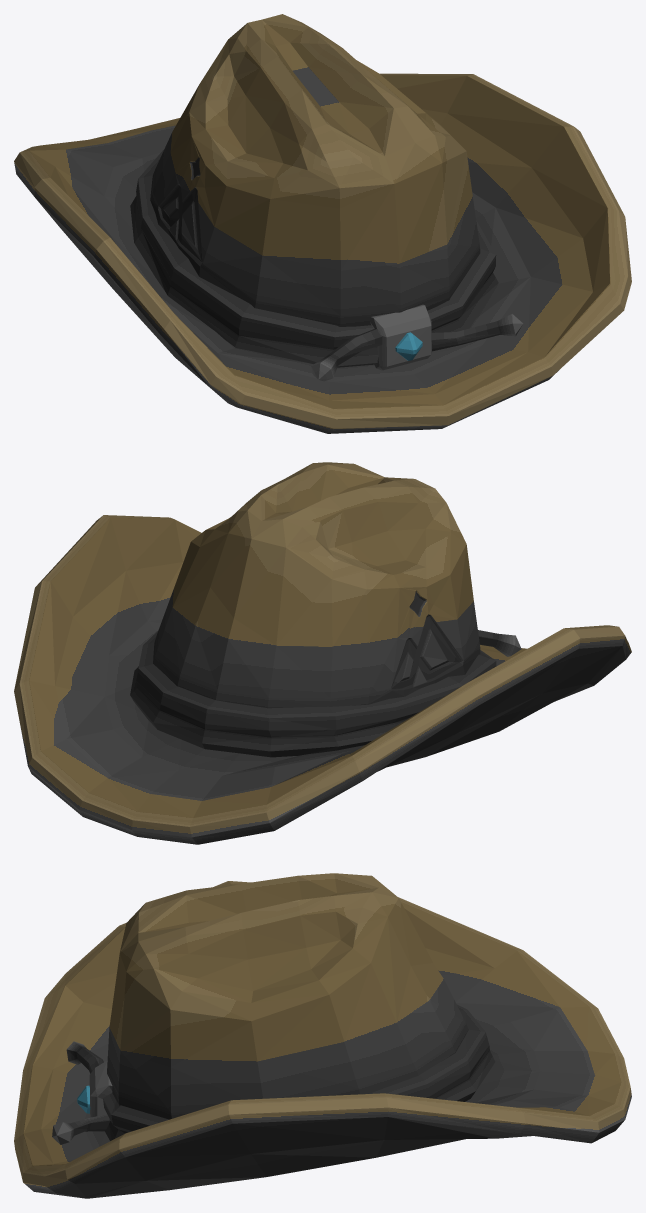
Rendered from CharSkyKid_Horn_AP19WesternHat.glb.
3 renders of one model, top to bottom at view 1: azimuth 30°, elevation 25°; view 2: azimuth 150°, elevation 25°; view 3: azimuth 270°, elevation 25°, orthographic. The views are drawn at different scales.
Parts seen in each view (by area): view 1: CharSkyKid_Horn_AP19WesternHat; view 2: CharSkyKid_Horn_AP19WesternHat; view 3: CharSkyKid_Horn_AP19WesternHat.
Boxes of the visible parts, bbox=[...] form: CharSkyKid_Horn_AP19WesternHat: bbox=[14, 14, 631, 433]; CharSkyKid_Horn_AP19WesternHat: bbox=[14, 462, 631, 844]; CharSkyKid_Horn_AP19WesternHat: bbox=[14, 873, 631, 1198].
Bounding box in the file's own units: 5.11 × 2.83 × 5.78.
1 material, 1 textured.
